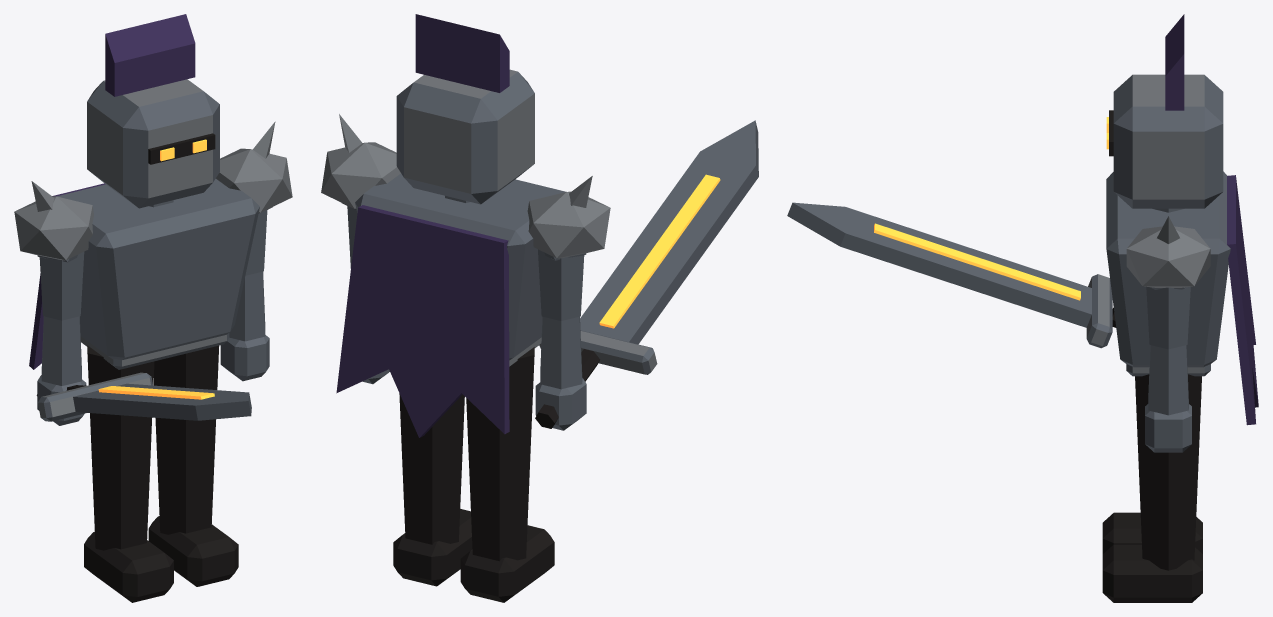
The model's file is grave_knight.glb.
3 renders of one model, left to right at view 1: azimuth 30°, elevation 25°; view 2: azimuth 150°, elevation 25°; view 3: azimuth 270°, elevation 25°, orthographic. The views are drawn at different scales.
Visible parts, largest first — view 1: torso, head, leg_r, arm_r, leg_l, arm_l; view 2: torso, arm_r, head, leg_r, leg_l; view 3: torso, head, arm_r, leg_l, arm_l, leg_r.
Part boxes in pixels (bbox=[...]): torso: bbox=[14, 121, 292, 369]; head: bbox=[87, 14, 219, 208]; leg_r: bbox=[84, 345, 173, 602]; arm_r: bbox=[36, 252, 251, 425]; leg_l: bbox=[148, 345, 238, 586]; arm_l: bbox=[220, 207, 272, 381]; torso: bbox=[321, 114, 610, 437]; arm_r: bbox=[535, 120, 758, 430]; head: bbox=[396, 14, 534, 204]; leg_r: bbox=[460, 347, 554, 602]; leg_l: bbox=[393, 393, 472, 586]; torso: bbox=[1106, 171, 1258, 425]; head: bbox=[1106, 14, 1223, 208]; arm_r: bbox=[787, 202, 1116, 348]; leg_l: bbox=[1102, 374, 1202, 602]; arm_l: bbox=[1145, 286, 1191, 452]; leg_r: bbox=[1102, 512, 1202, 553].
Bounding box in the file's own units: 1.03 × 1.92 × 1.51.
